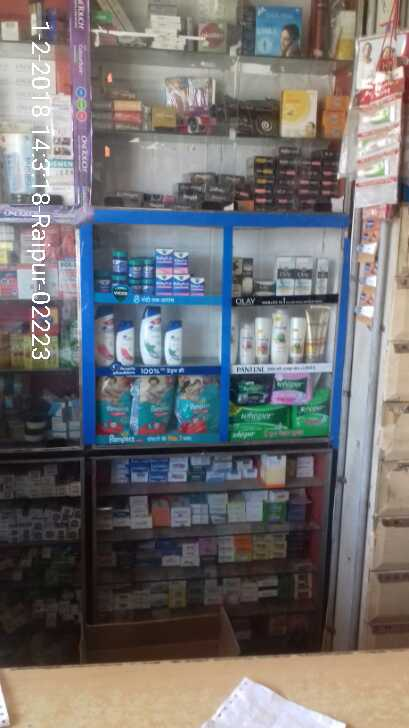beauty: (274, 254, 329, 299), (138, 307, 165, 366), (111, 313, 138, 366), (164, 316, 186, 371), (288, 317, 311, 363), (253, 317, 273, 365), (273, 306, 288, 361), (239, 323, 256, 366)
pharmacy: (174, 369, 222, 440), (130, 373, 180, 439), (95, 243, 156, 297), (158, 242, 207, 298), (227, 400, 295, 440), (95, 372, 133, 441), (289, 398, 333, 439), (232, 371, 273, 406), (274, 372, 314, 406)
